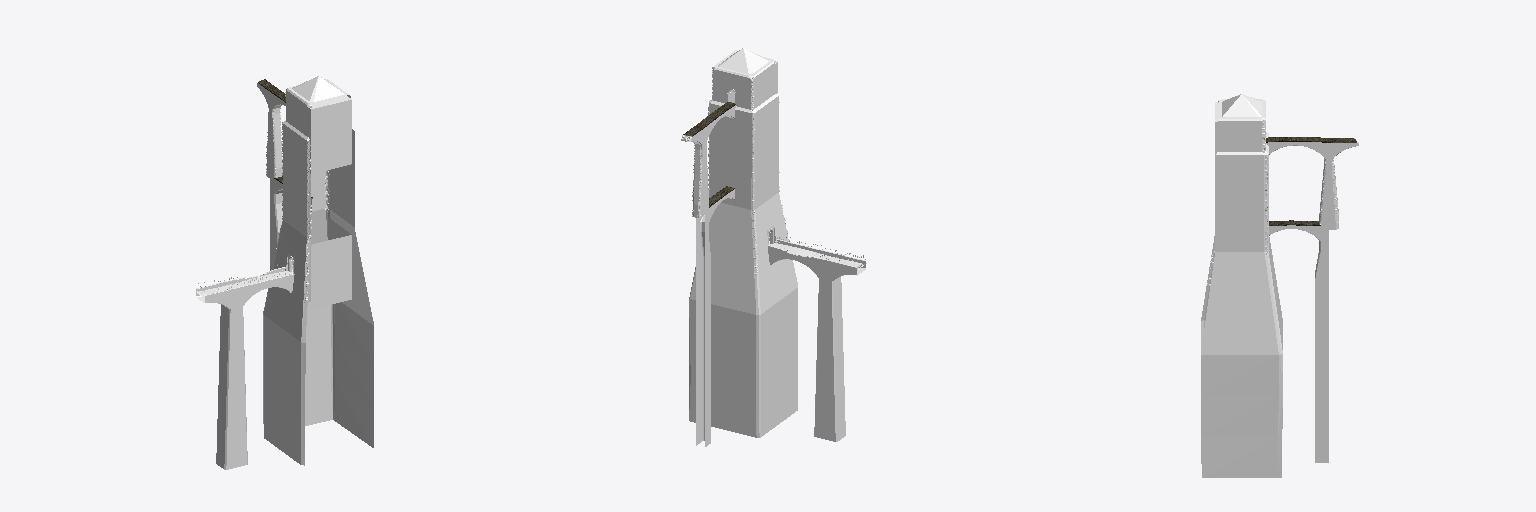
3 views of the same model, side by side, from view 1: azimuth 30°, elevation 25°; view 2: azimuth 150°, elevation 25°; view 3: azimuth 270°, elevation 25° (orthographic).
Parts seen in each view (by area): view 1: mesh10, mesh0, mesh1; view 2: mesh10, mesh0, mesh1, mesh3, mesh8; view 3: mesh10, mesh0, mesh3, mesh1, mesh8.
Boxes of the visible parts, <box> form: mesh10: <box>264,89,373,465</box>; mesh0: <box>196,79,351,469</box>; mesh1: <box>292,76,344,101</box>; mesh10: <box>689,59,797,437</box>; mesh0: <box>692,50,865,446</box>; mesh1: <box>718,48,769,73</box>; mesh3: <box>692,100,752,217</box>; mesh8: <box>683,102,735,207</box>; mesh10: <box>1201,100,1282,477</box>; mesh0: <box>1215,99,1338,462</box>; mesh3: <box>1215,133,1338,229</box>; mesh1: <box>1222,94,1261,116</box>; mesh8: <box>1266,137,1356,225</box>.
Bounding box in the file's own units: 37.63 × 83.51 × 32.73.
Materials: 14 (1 with a texture image).